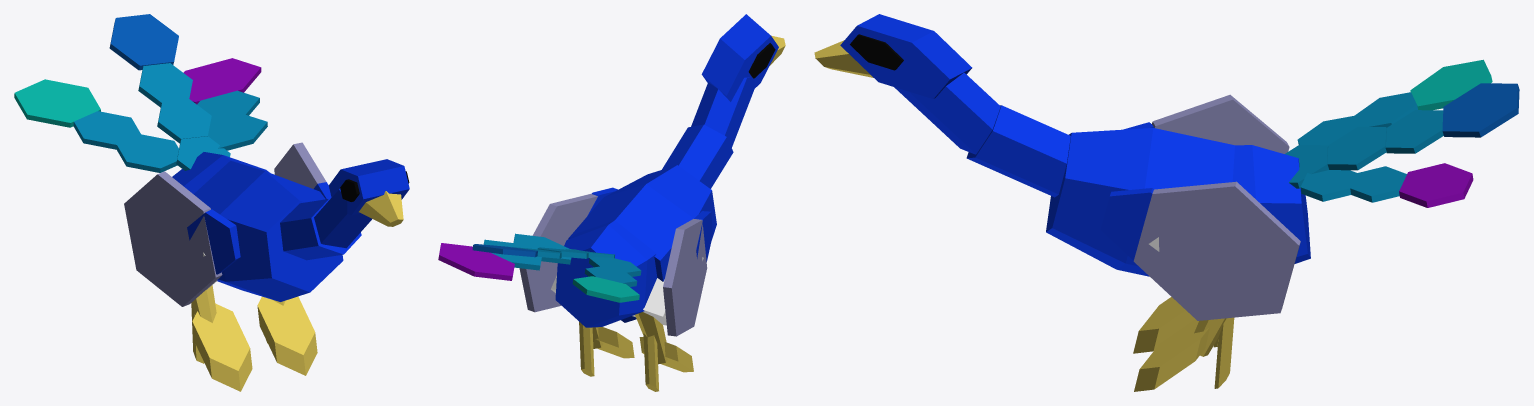
File: Percival1.gltf
The picture shows the model from 3 angles, left to right: view 1: azimuth 30°, elevation 25°; view 2: azimuth 150°, elevation 25°; view 3: azimuth 270°, elevation 25°; orthographic projection. The views are drawn at different scales.
Parts seen in each view (by area): view 1: Cylinder, Cylinder.012, Cylinder.008, Cylinder.047, Cylinder.020, Cylinder.021, Cylinder.003, Cylinder.001, Cylinder.022, Cylinder.002, Cylinder.014, Cylinder.017 (+11 smaller); view 2: Cylinder, Cylinder.010, Cylinder.012, Cylinder.003, Cylinder.046, Cylinder.001, Cylinder.002, Cylinder.022, Cylinder.020, Cylinder.047, Cylinder.009, Cylinder.007 (+10 smaller); view 3: Cylinder.046, Cylinder, Cylinder.003, Cylinder.001, Cylinder.010, Cylinder.002, Cylinder.012, Cylinder.021, Cylinder.047, Cylinder.022, Cylinder.045, Cylinder.020 (+11 smaller).
Part boxes in pixels (left/top/right/bottom): Cylinder: left=193, top=160, right=343, bottom=301; Cylinder.012: left=124, top=171, right=222, bottom=306; Cylinder.008: left=192, top=303, right=252, bottom=391; Cylinder.047: left=257, top=296, right=317, bottom=375; Cylinder.020: left=14, top=79, right=100, bottom=127; Cylinder.021: left=109, top=14, right=178, bottom=70; Cylinder.003: left=328, top=159, right=409, bottom=215; Cylinder.001: left=280, top=199, right=361, bottom=260; Cylinder.022: left=183, top=58, right=261, bottom=104; Cylinder.002: left=314, top=188, right=371, bottom=248; Cylinder.014: left=116, top=134, right=178, bottom=172; Cylinder.017: left=73, top=111, right=140, bottom=149; Cylinder: left=568, top=165, right=716, bottom=322; Cylinder.010: left=555, top=220, right=657, bottom=327; Cylinder.012: left=663, top=219, right=707, bottom=336; Cylinder.003: left=701, top=14, right=778, bottom=101; Cylinder.046: left=519, top=194, right=597, bottom=312; Cylinder.001: left=662, top=124, right=733, bottom=188; Cylinder.002: left=691, top=76, right=754, bottom=147; Cylinder.022: left=438, top=243, right=514, bottom=280; Cylinder.020: left=572, top=276, right=639, bottom=302; Cylinder.047: left=595, top=327, right=634, bottom=358; Cylinder.009: left=643, top=333, right=658, bottom=391; Cylinder.007: left=635, top=312, right=667, bottom=364; Cylinder.046: left=1133, top=181, right=1300, bottom=320; Cylinder: left=1046, top=128, right=1234, bottom=276; Cylinder.003: left=840, top=14, right=972, bottom=98; Cylinder.001: left=966, top=105, right=1070, bottom=197; Cylinder.010: left=1232, top=145, right=1310, bottom=263; Cylinder.002: left=894, top=72, right=1000, bottom=154; Cylinder.012: left=1152, top=94, right=1289, bottom=153; Cylinder.021: left=1442, top=83, right=1519, bottom=137; Cylinder.047: left=1134, top=319, right=1209, bottom=391; Cylinder.022: left=1399, top=163, right=1473, bottom=207; Cylinder.045: left=1100, top=188, right=1153, bottom=259; Cylinder.020: left=1410, top=59, right=1492, bottom=110.
Size of the model in its own units: 3.26 by 4.11 by 7.39.
